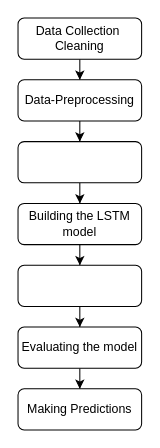
This 160x448 diagram has some shape labels left out. Here are the shapes that lost their labels. From the top down, the centre of each, then its label:
At point 79,162: "Train-Test Split".
At point 79,285: "Training & Testing the model".
